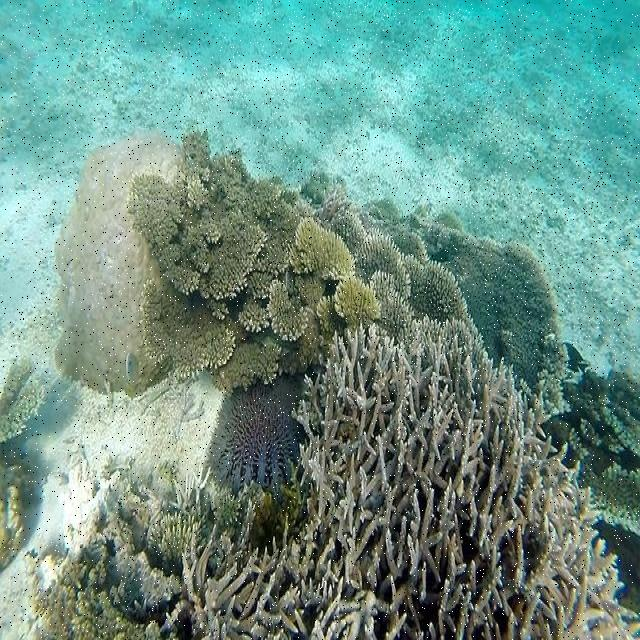aquatic plants: (23, 325, 639, 637), (127, 129, 572, 415)
